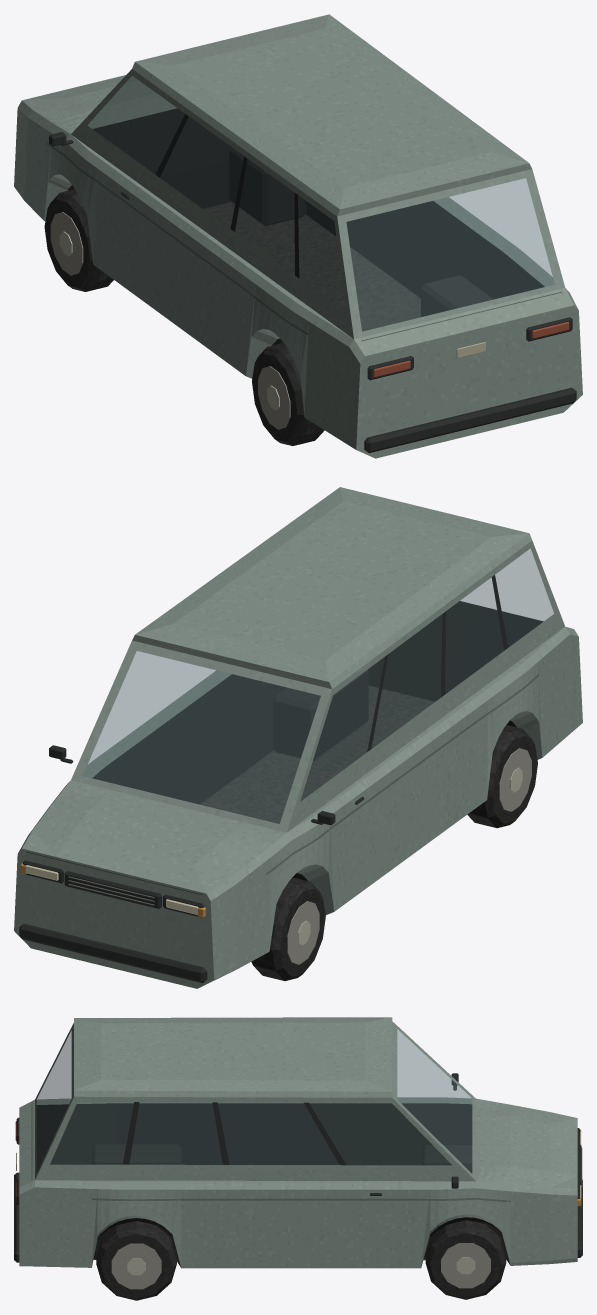
Rendered from vehicle_minivan.glb.
3 renders of one model, top to bottom at view 1: azimuth 30°, elevation 25°; view 2: azimuth 150°, elevation 25°; view 3: azimuth 270°, elevation 25°, orthographic. The views are drawn at different scales.
Parts seen in each view (by area): view 1: closed_body, roof_body, glazing; view 2: closed_body, glazing, roof_body; view 3: closed_body, glazing, roof_body.
Boxes of the visible parts, x1,y1,x2,y2 form: closed_body: (14,69,582,458); roof_body: (132,14,531,216); glazing: (88,76,554,331); closed_body: (14,540,582,988); glazing: (83,548,553,823); roof_body: (132,487,531,688); closed_body: (14,1021,582,1300); glazing: (36,1029,472,1173); roof_body: (74,1017,392,1097).
Size of the model in its own units: 2.23 by 1.97 by 4.94.
2 materials, 2 textured.
